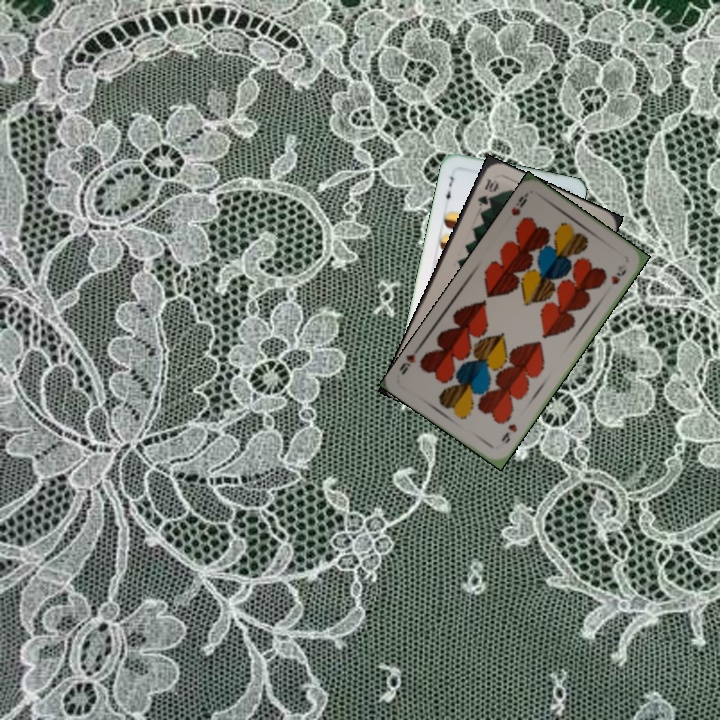E7: (441, 171, 456, 206)
G10: (474, 174, 500, 209)
H9: (507, 189, 531, 218), (497, 420, 520, 447)
